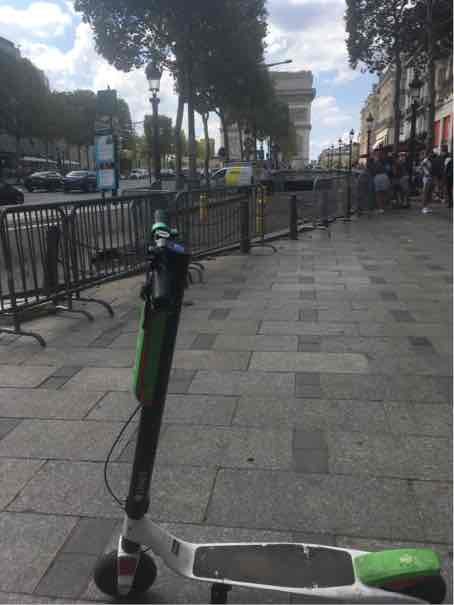scooter: (83, 200, 454, 601)
